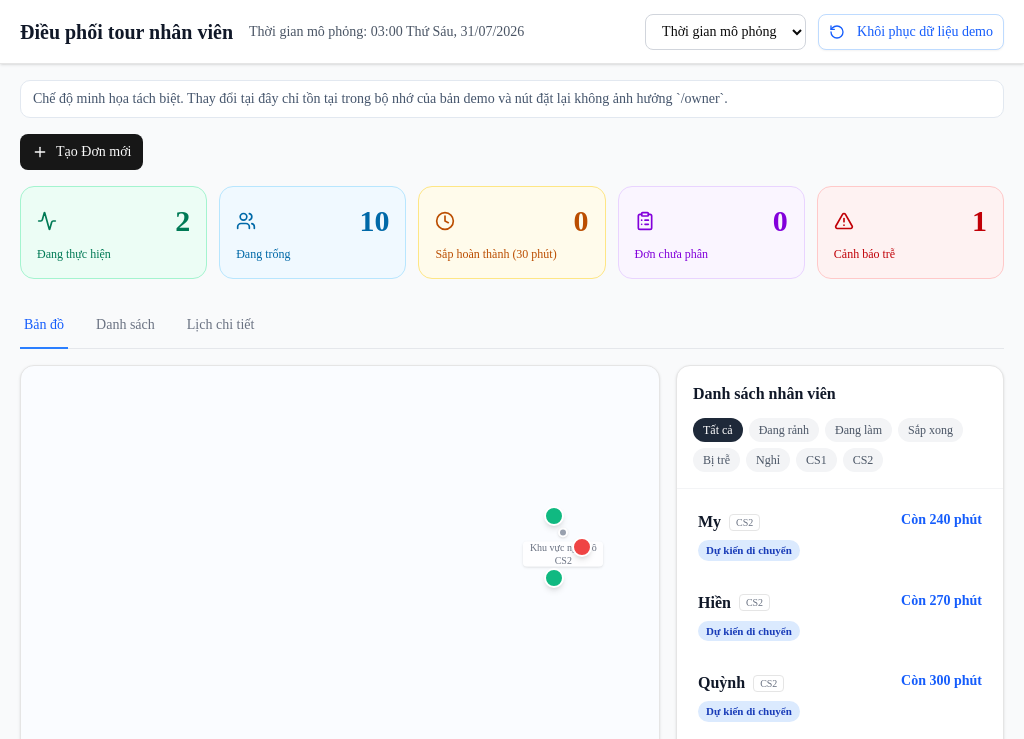
it: create-order workflow UI › opens the form and displays required-field validation
The image size is (1024, 739).
Click the button "Tạo Đơn mới": (82, 152) [20,134,144,170]
(page scrolled)
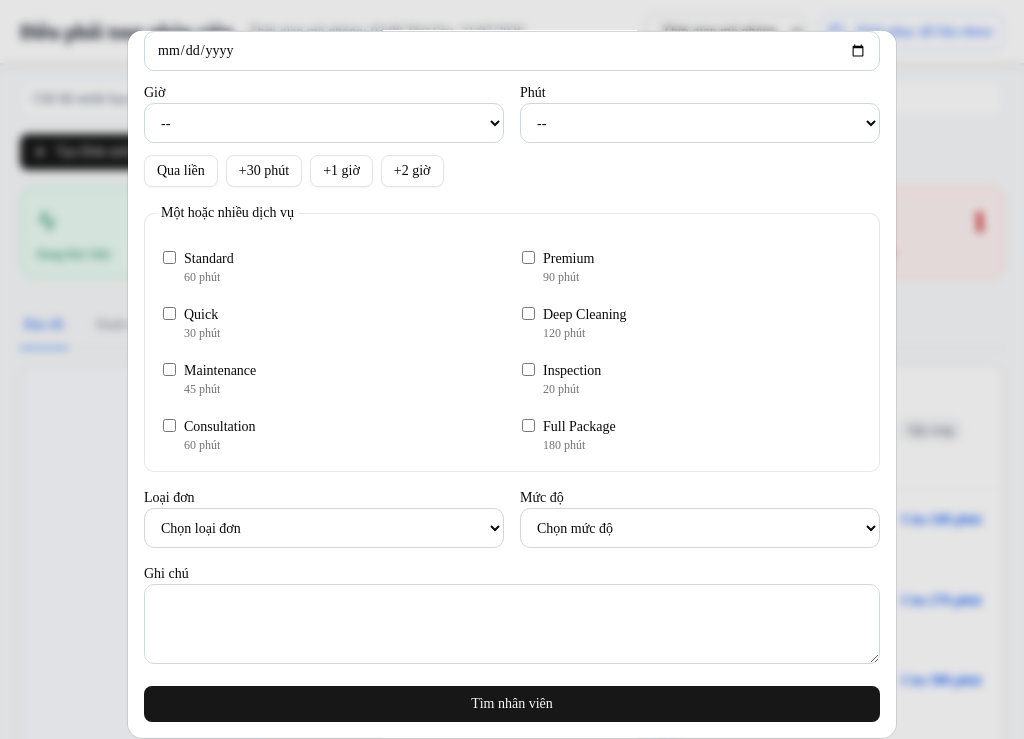
Click the button "Tìm nhân viên": (512, 704) [144,686,880,722]
(page scrolled)
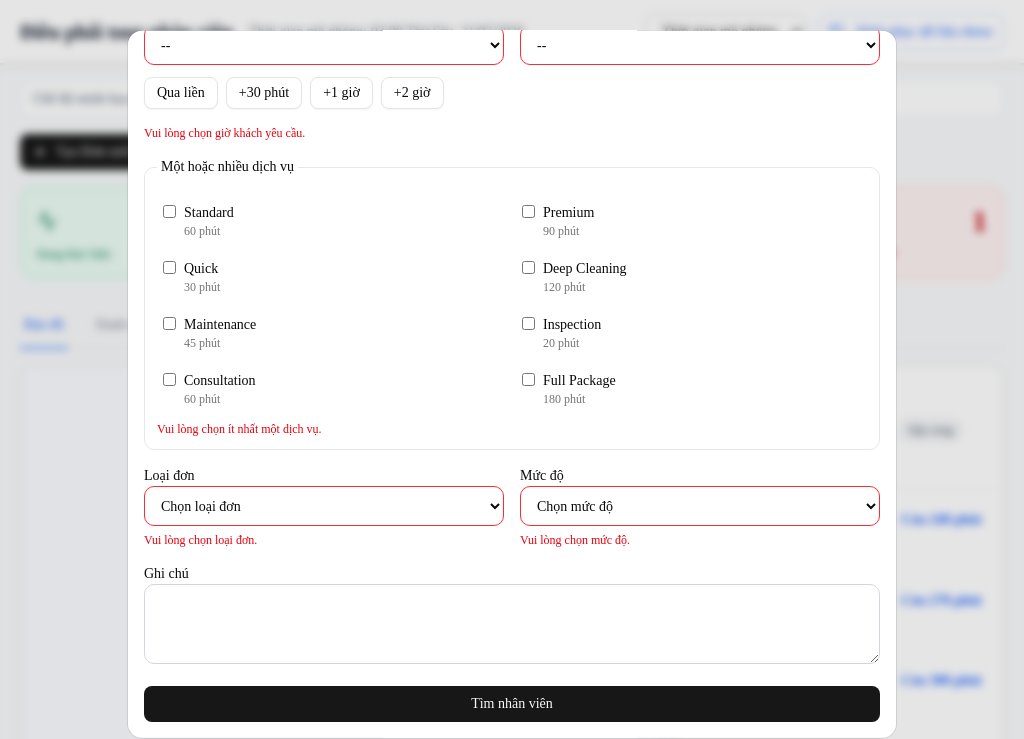
Expected: the text "Vui lòng chọn giờ khách yêu cầu." is shown, [144,126,305,140]
Expected: the text "Vui lòng chọn ít nhất một dịch vụ." is shown, [157,422,322,436]
Expected: the text "Vui lòng chọn loại đơn." is shown, [144,533,257,547]
